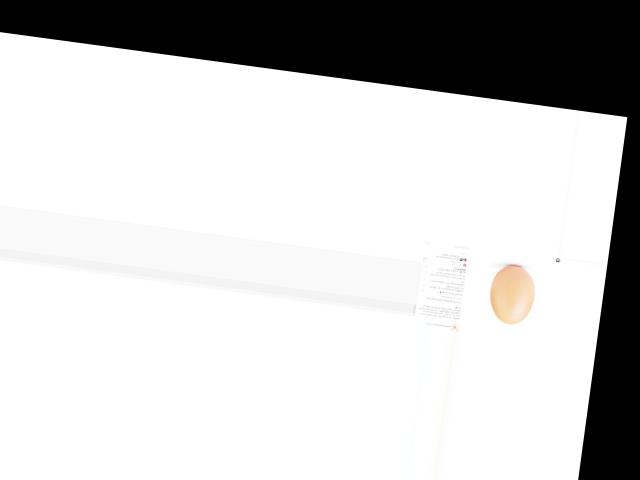egg: (486, 262, 537, 326)
